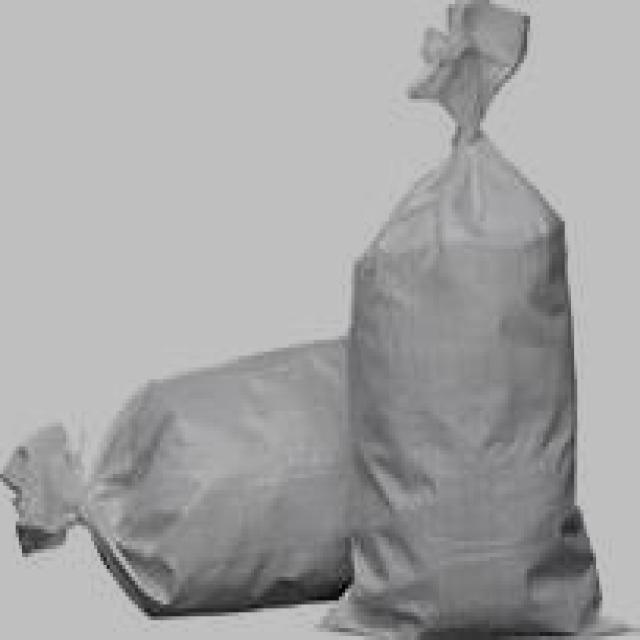gunny_bag: (311, 0, 637, 640), (6, 335, 346, 623)
